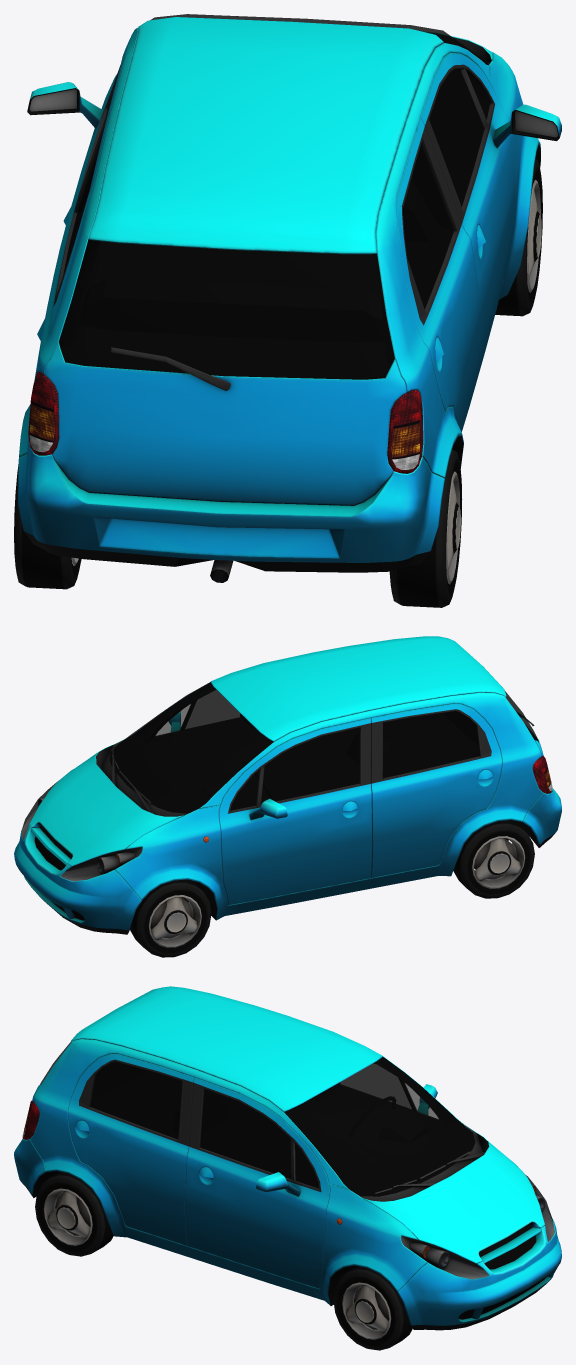
The model's file is simple_car_01.glb.
3 views of the same model, one above another, from view 1: azimuth 30°, elevation 25°; view 2: azimuth 150°, elevation 25°; view 3: azimuth 270°, elevation 25° (orthographic). The views are drawn at different scales.
Visible parts, largest first — view 1: Compact Body, Wheel_C002, Wheel_C003, Wheel_C001; view 2: Compact Body, Wheel_C, Wheel_C001; view 3: Compact Body, Wheel_C003, Wheel_C002.
Part boxes in pixels (x1,y1,x2,y2): Compact Body: [18, 14, 561, 582]; Wheel_C002: [389, 449, 462, 607]; Wheel_C003: [495, 159, 542, 316]; Wheel_C001: [14, 464, 81, 589]; Compact Body: [14, 636, 561, 934]; Wheel_C: [130, 879, 211, 957]; Wheel_C001: [453, 820, 534, 898]; Compact Body: [14, 986, 561, 1330]; Wheel_C003: [333, 1266, 412, 1350]; Wheel_C002: [35, 1172, 113, 1256].
Bounding box in the file's own units: 2.65 × 1.32 × 3.07.
Materials: 4 (3 with a texture image).
